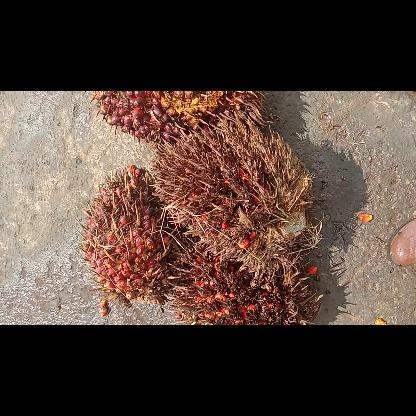TBS masak: (76, 167, 170, 306), (91, 91, 269, 147)
Terlalu masak: (148, 112, 316, 276), (164, 234, 320, 324)
